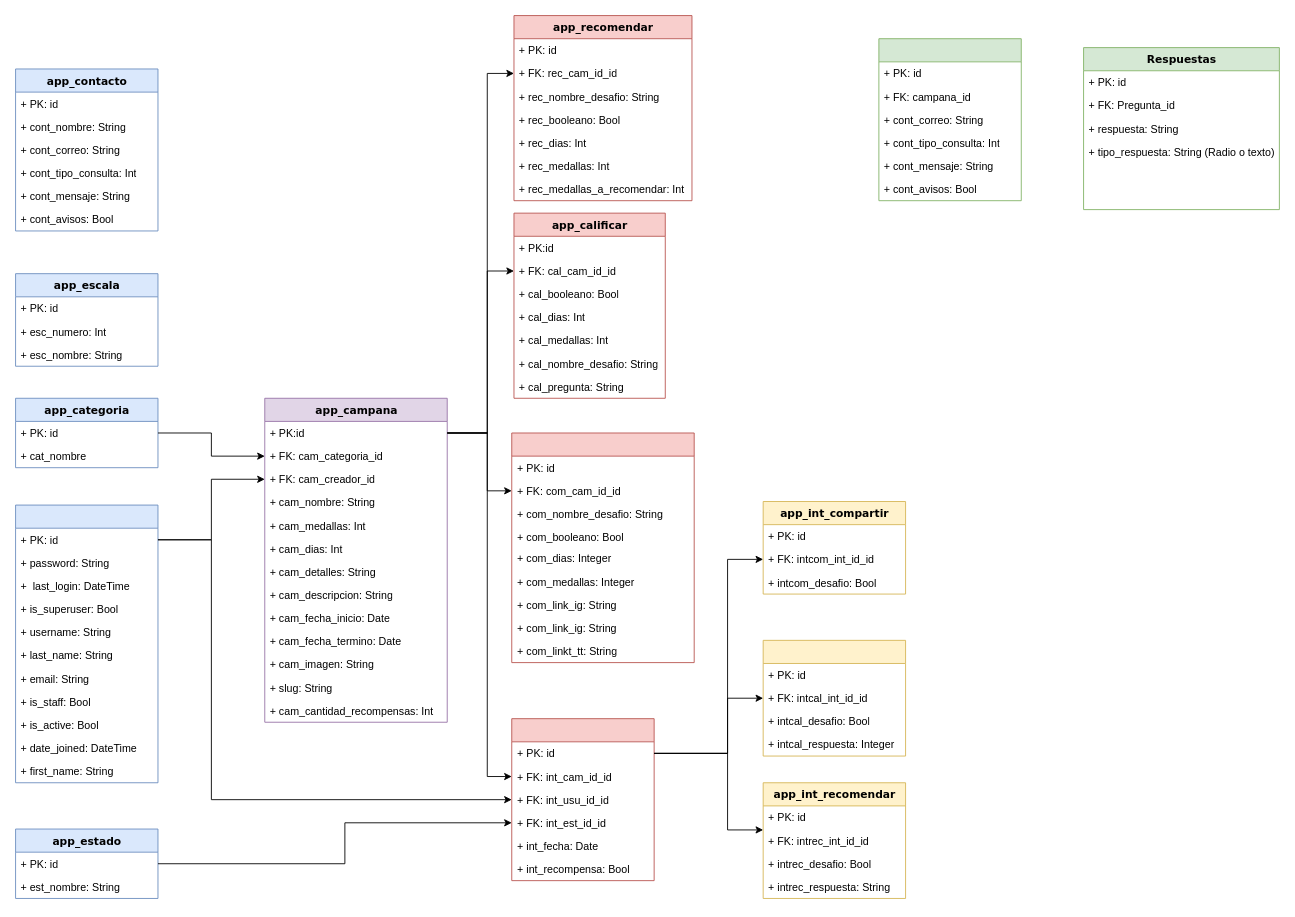
The diagram is 1295 pixels wide and 917 high, and some of its shapes have lost their labels. The shapes that lost their labels are listed below. From the top down, each one's box as (x1, y1, x2, y2) in pixels, then its label:
(878, 38, 1021, 201): Preguntas
(511, 432, 694, 663): app_compartir
(15, 504, 158, 783): auth_user
(762, 639, 906, 756): app_int_calificar
(511, 718, 654, 881): app_interaccion
